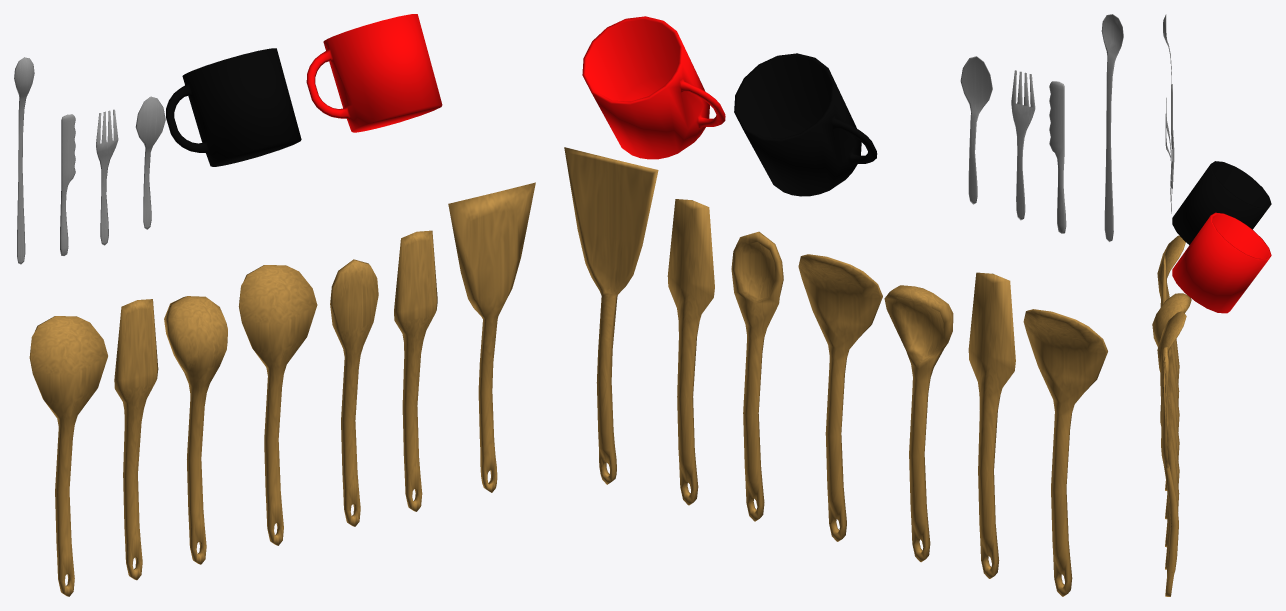
File: kitchenprops2.glb
3 renders of one model, left to right at view 1: azimuth 30°, elevation 25°; view 2: azimuth 150°, elevation 25°; view 3: azimuth 270°, elevation 25°, orthographic. The views are drawn at different scales.
Parts seen in each view (by area): view 1: mugred, mugblack, ustensils1, ustensils7, ustensils4, ustensils5, ustensils6, ustensils2, ustensils3, spoonlong, spoon, knifetable (+1 smaller); view 2: mugred, mugblack, ustensils1, ustensils4, ustensils7, ustensils6, ustensils2, ustensils5, ustensils3, spoonlong, spoon, fork (+1 smaller); view 3: mugred, mugblack, ustensils1, ustensils5, ustensils4, ustensils2, ustensils7, ustensils3, ustensils6, knifetable.
Part boxes in pixels (box(x1,y1,x2,y2)): mugred: box(306, 14, 442, 132); mugblack: box(166, 48, 301, 166); ustensils1: box(448, 182, 535, 492); ustensils7: box(29, 316, 107, 596); ustensils4: box(238, 265, 317, 545); ustensils5: box(164, 296, 227, 564); ustensils6: box(114, 299, 158, 580); ustensils2: box(394, 230, 437, 511); ustensils3: box(330, 259, 378, 526); spoonlong: box(14, 57, 34, 264); spoon: box(135, 96, 165, 229); knifetable: box(60, 114, 75, 255); mugred: box(582, 16, 725, 159); mugblack: box(734, 53, 877, 196); ustensils1: box(564, 147, 658, 484); ustensils4: box(798, 254, 882, 541); ustensils7: box(1023, 309, 1107, 596); ustensils6: box(968, 272, 1015, 578); ustensils2: box(667, 199, 714, 505); ustensils5: box(884, 285, 953, 562); ustensils3: box(731, 231, 783, 521); spoonlong: box(1101, 14, 1123, 241); spoon: box(960, 56, 992, 204); fork: box(1011, 70, 1035, 220); mugred: box(1172, 212, 1271, 313); mugblack: box(1172, 161, 1271, 244); ustensils1: box(1161, 358, 1178, 596); ustensils5: box(1152, 293, 1191, 490); ustensils4: box(1157, 311, 1186, 519); ustensils2: box(1160, 356, 1179, 569); ustensils7: box(1157, 235, 1185, 383); ustensils3: box(1160, 347, 1179, 547); ustensils6: box(1160, 254, 1179, 403); knifetable: box(1171, 84, 1174, 188).
Size of the model in its own units: 5.14 by 5.19 by 1.36.
13 materials, 13 textured.
